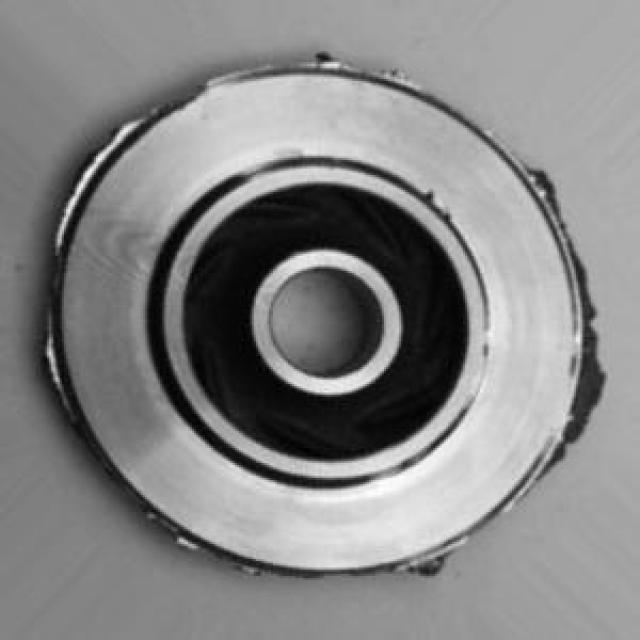Defect: (573, 328, 612, 428)
